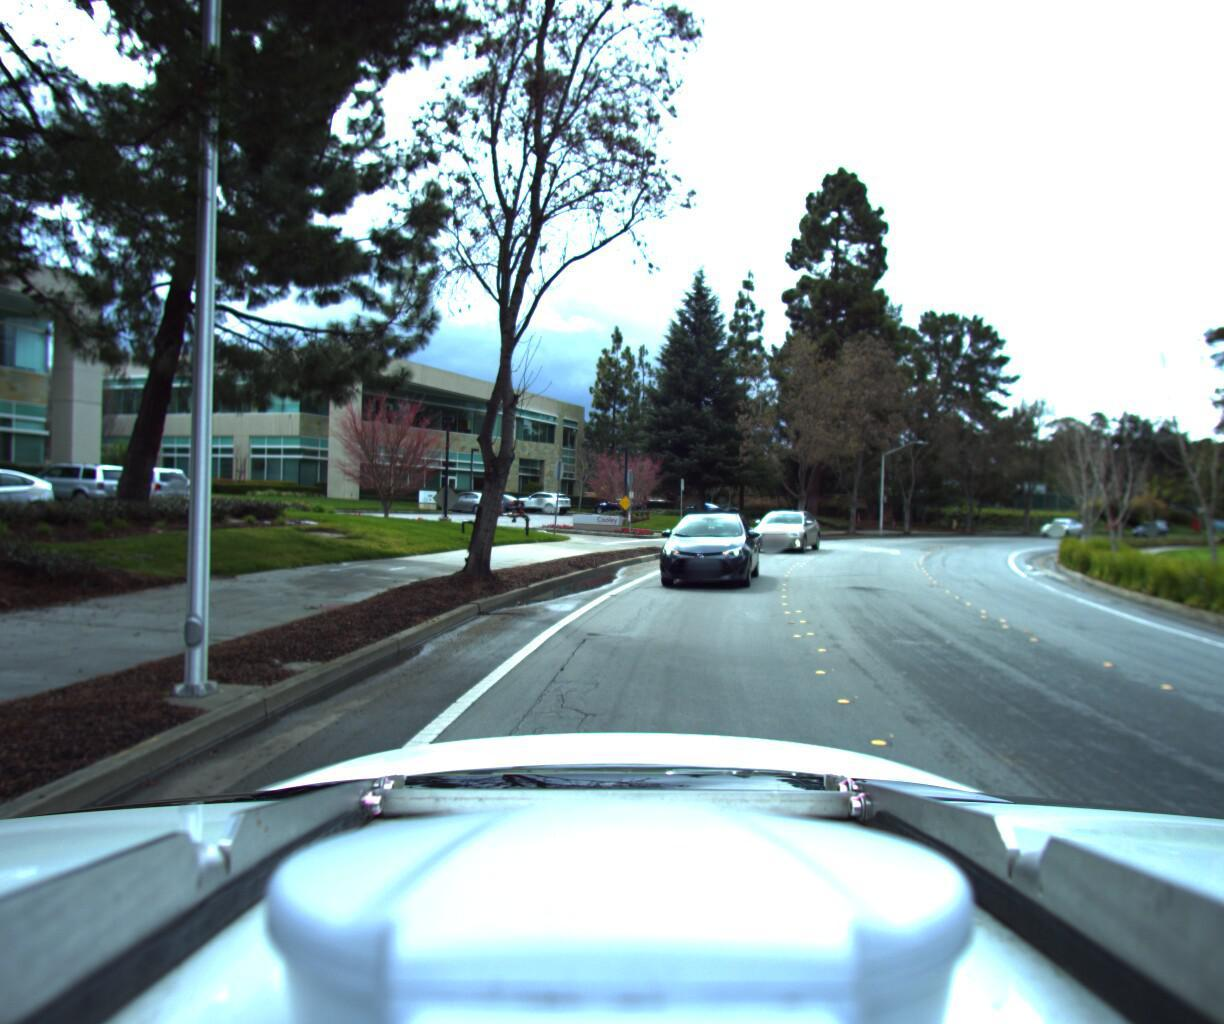car: (648, 506, 764, 593), (745, 501, 820, 549), (1032, 511, 1080, 536), (1120, 523, 1163, 544)
